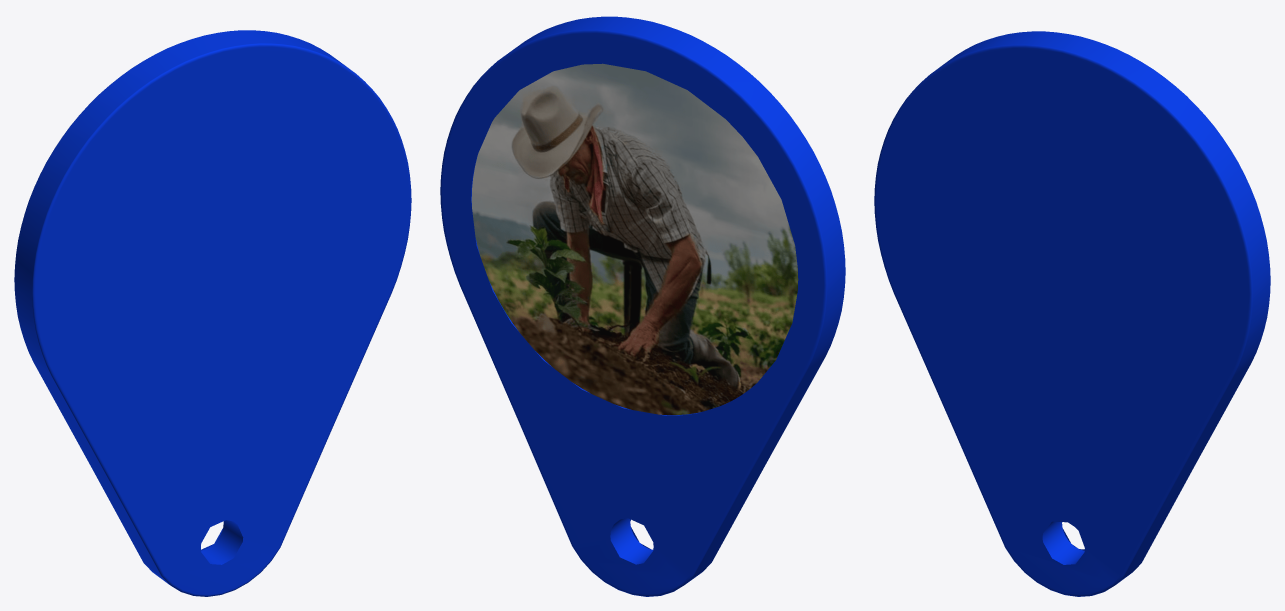
File: llavero1.glb
3 views of the same model, side by side, from view 1: azimuth 30°, elevation 25°; view 2: azimuth 150°, elevation 25°; view 3: azimuth 330°, elevation 25° (orthographic). The views are drawn at different scales.
Visible parts, largest first — view 1: Object_2; view 2: campesino-colombiano-revista-fotor-20250222121437 (1), Object_2; view 3: Object_2.
Boxes of the visible parts, bbox=[...] form: Object_2: bbox=[14, 30, 411, 596]; campesino-colombiano-revista-fotor-20250222121437 (1): bbox=[471, 63, 798, 415]; Object_2: bbox=[440, 16, 845, 596]; Object_2: bbox=[874, 31, 1270, 596].
Size of the model in its own units: 17.9 by 24.7 by 1.73.
2 materials, 1 textured.
